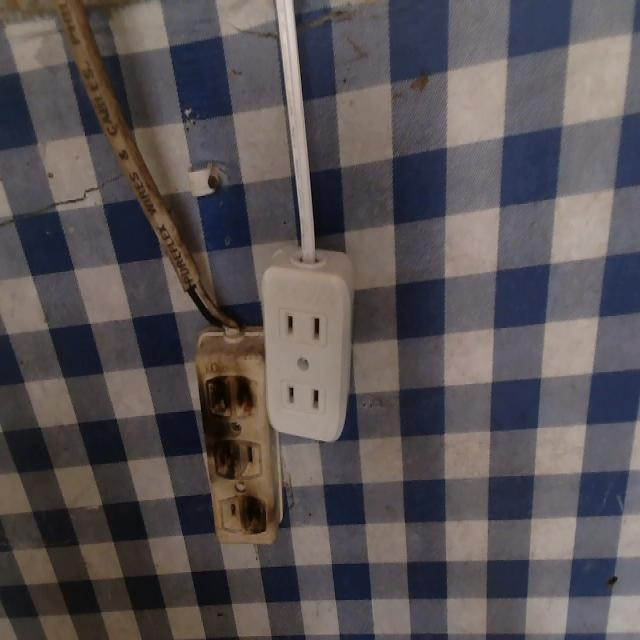-: (195, 367, 264, 425), (208, 431, 243, 488), (238, 488, 277, 539)
